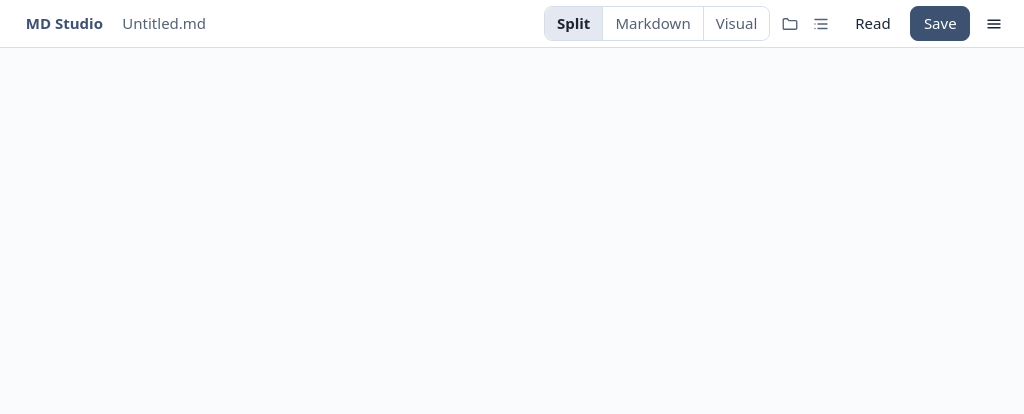
it: Toolbar › shows Mac shortcut hints on a Mac
Click the button named "Menu" at (994, 24), box [976,8,1012,39]
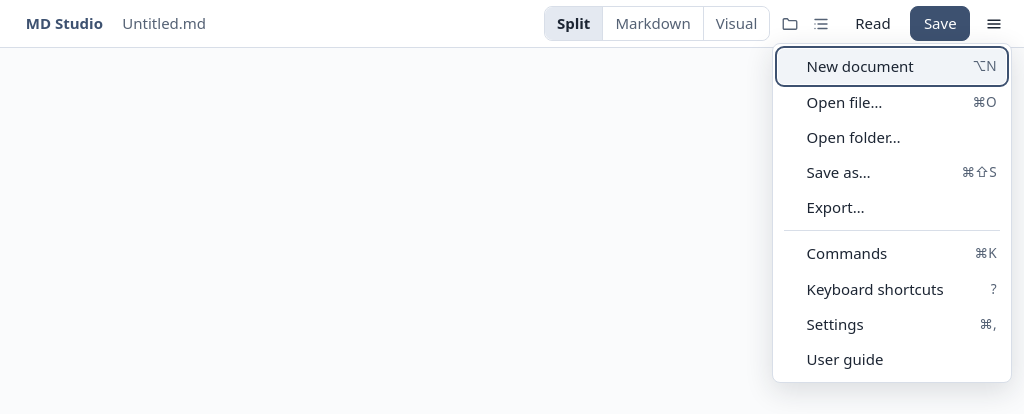
Now the menu item "Commands ⌘K" is shown, box [778,236,1006,271]
